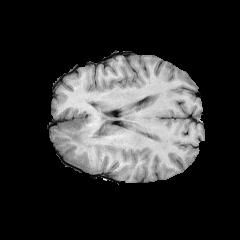glioma: (51, 110, 113, 153)
